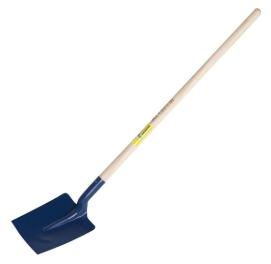PELLE: (1, 0, 265, 263)
